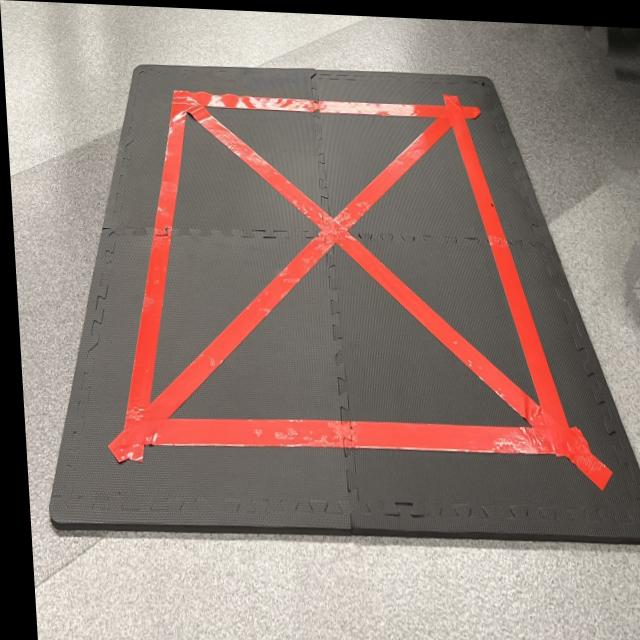landingPads: (23, 56, 640, 550)
